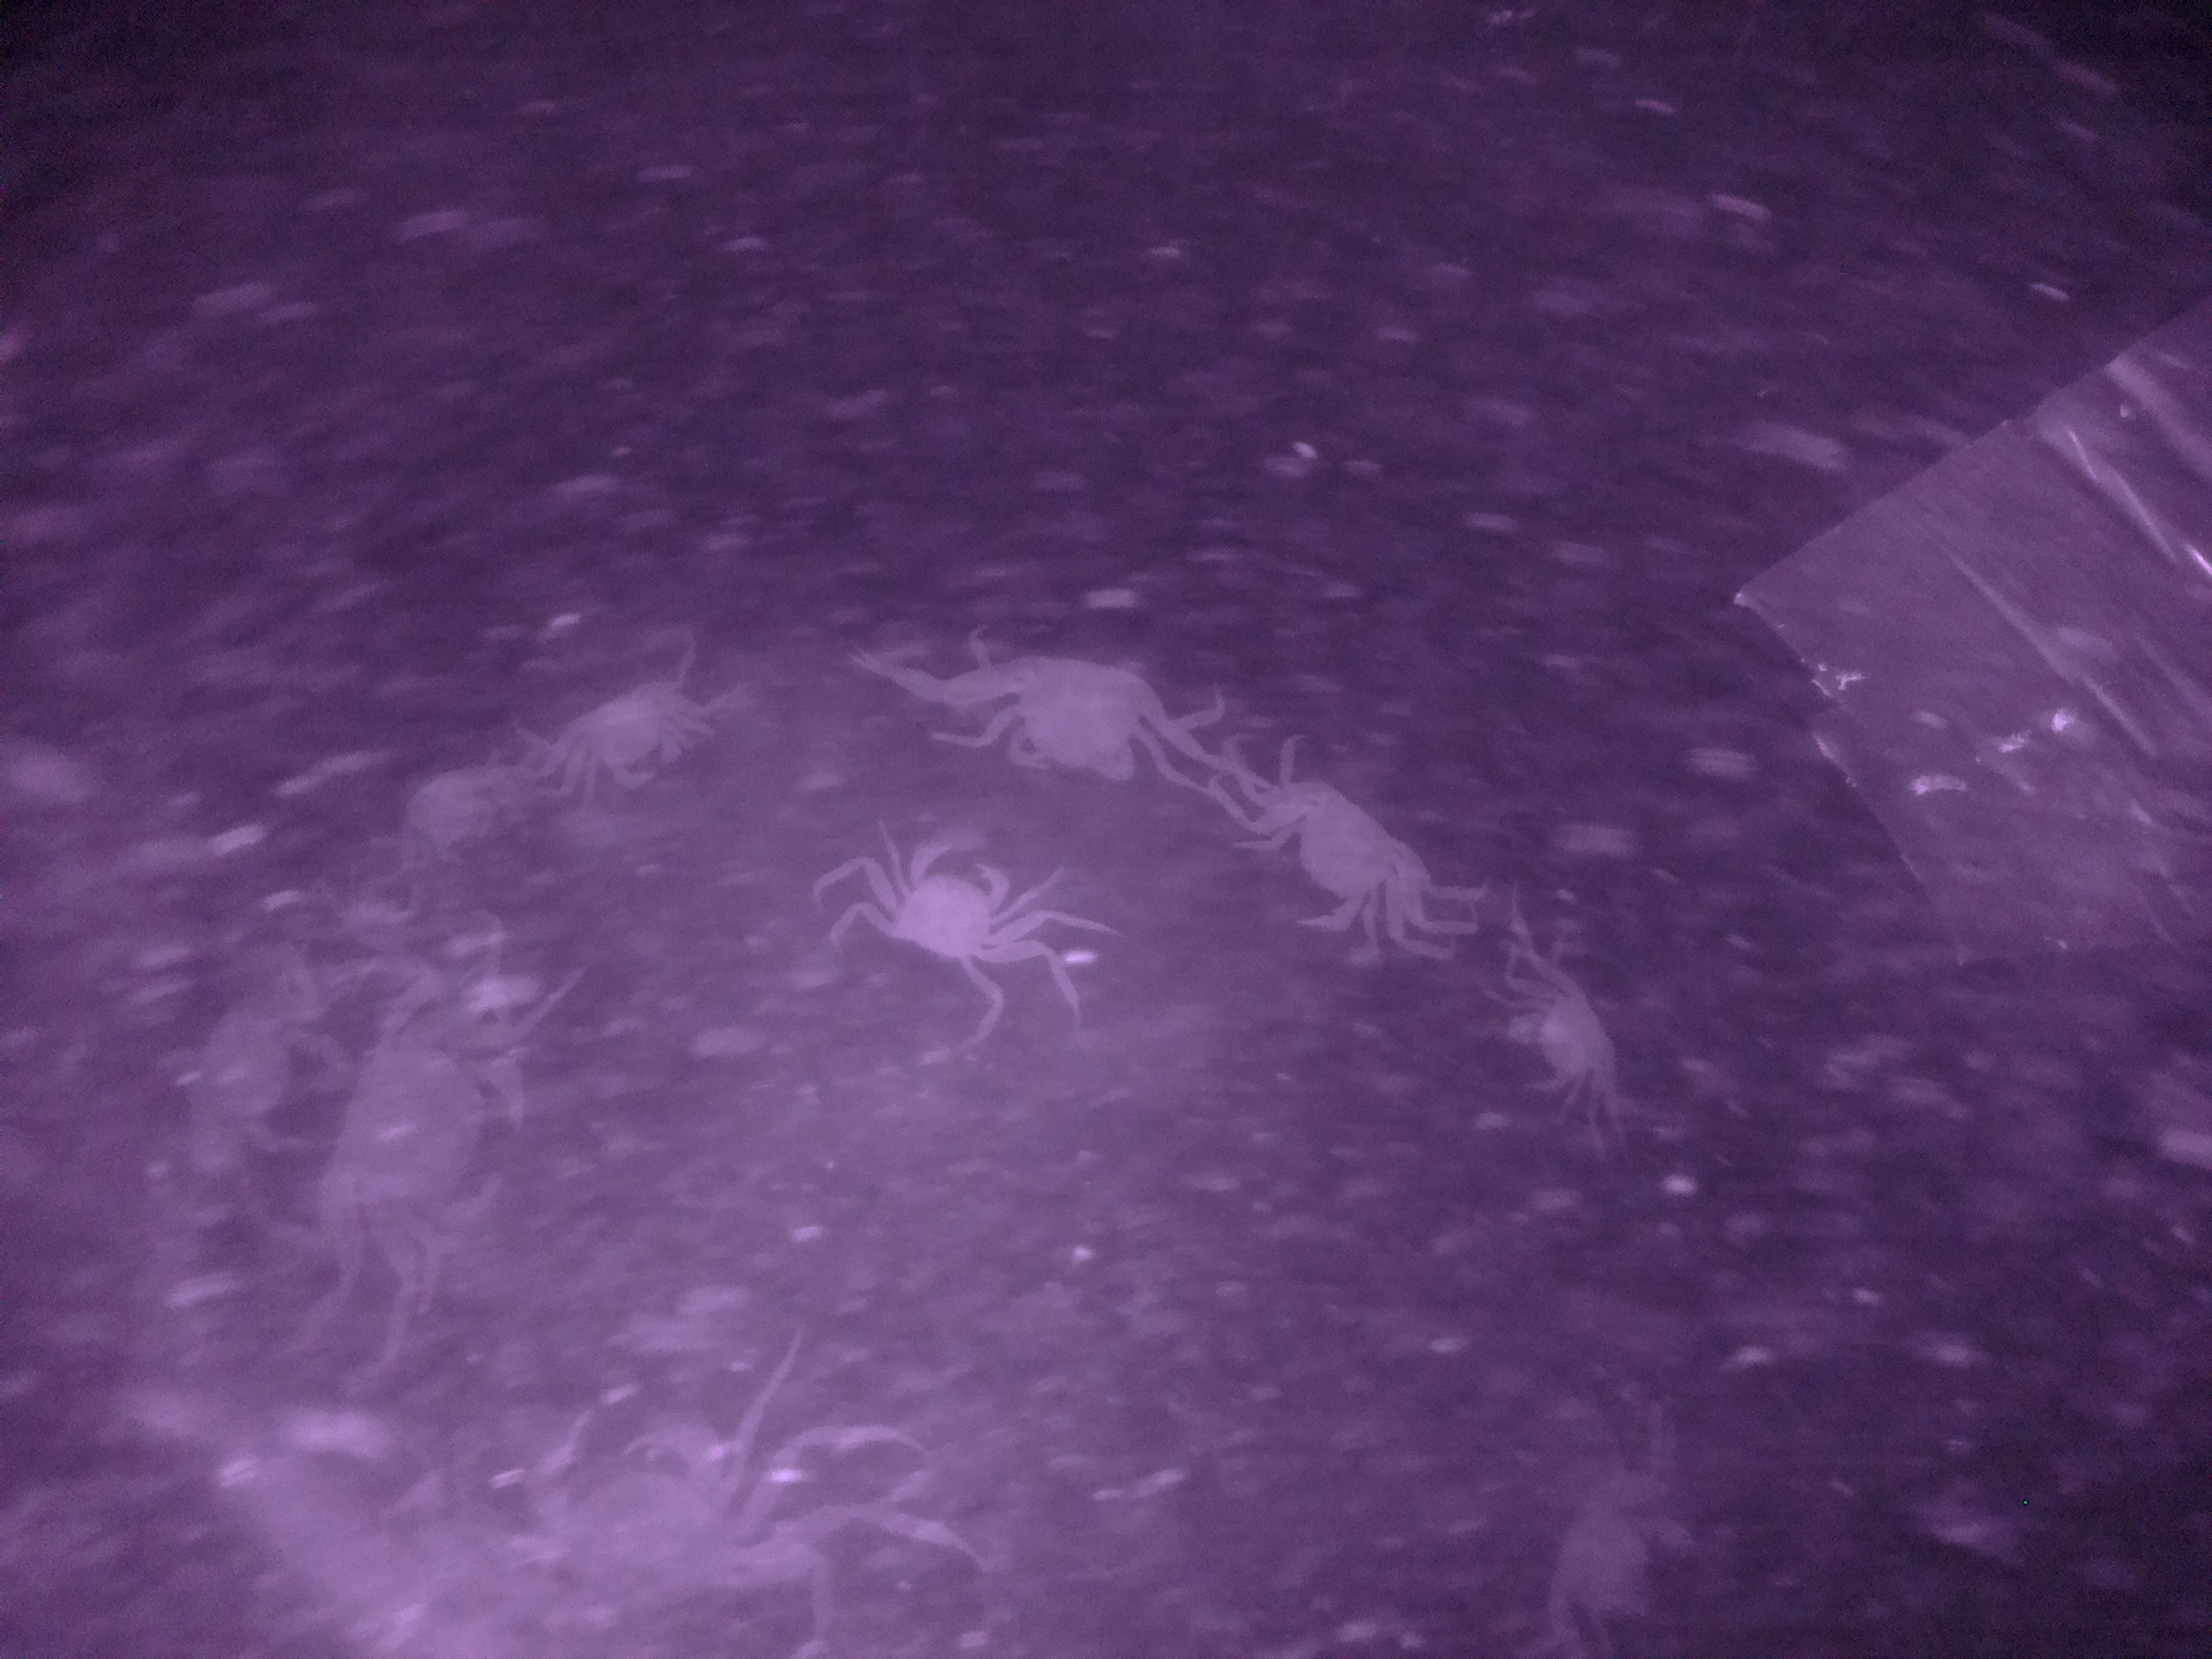Crab: (1224, 760, 1453, 950), (954, 622, 1198, 798), (862, 833, 1057, 981), (1496, 948, 1653, 1126)
